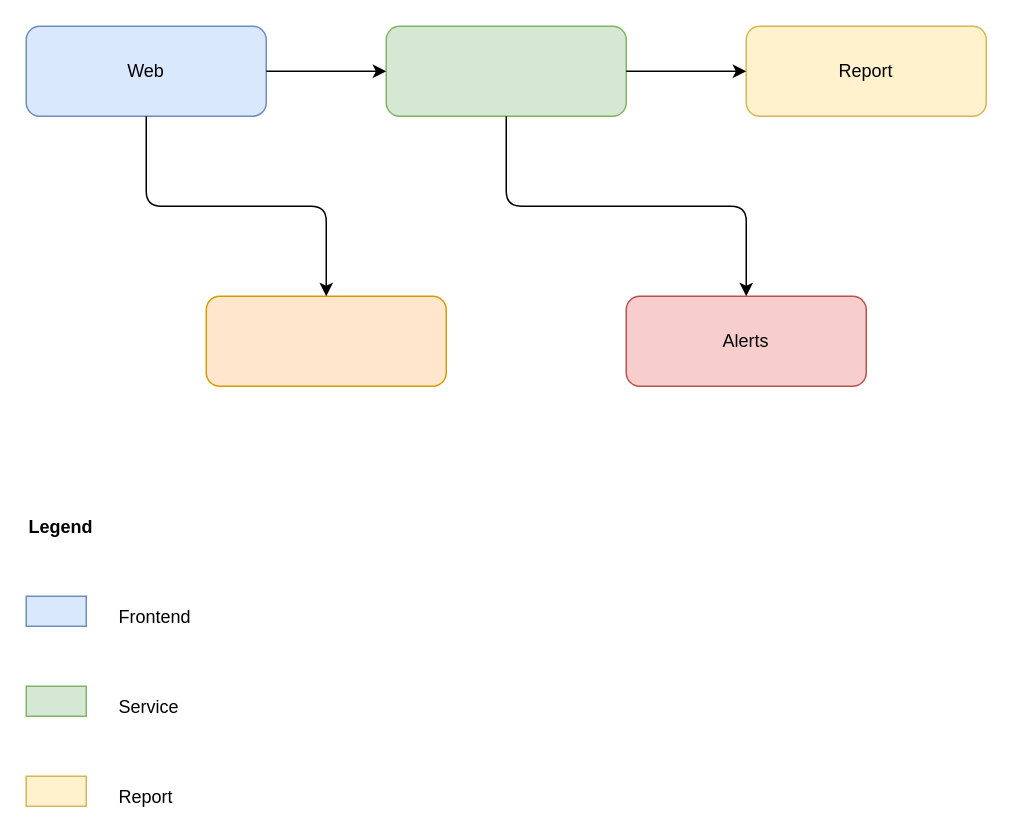
Some shapes in this 1013 by 834 pixel diagram are drawn without their labels. The box of each missing label's shape, as (x1, y1, x2, y2) in pixels:
API: (385, 25, 626, 116)
Queue: (205, 295, 446, 386)
